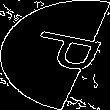P_E: (10, 30, 100, 80)
